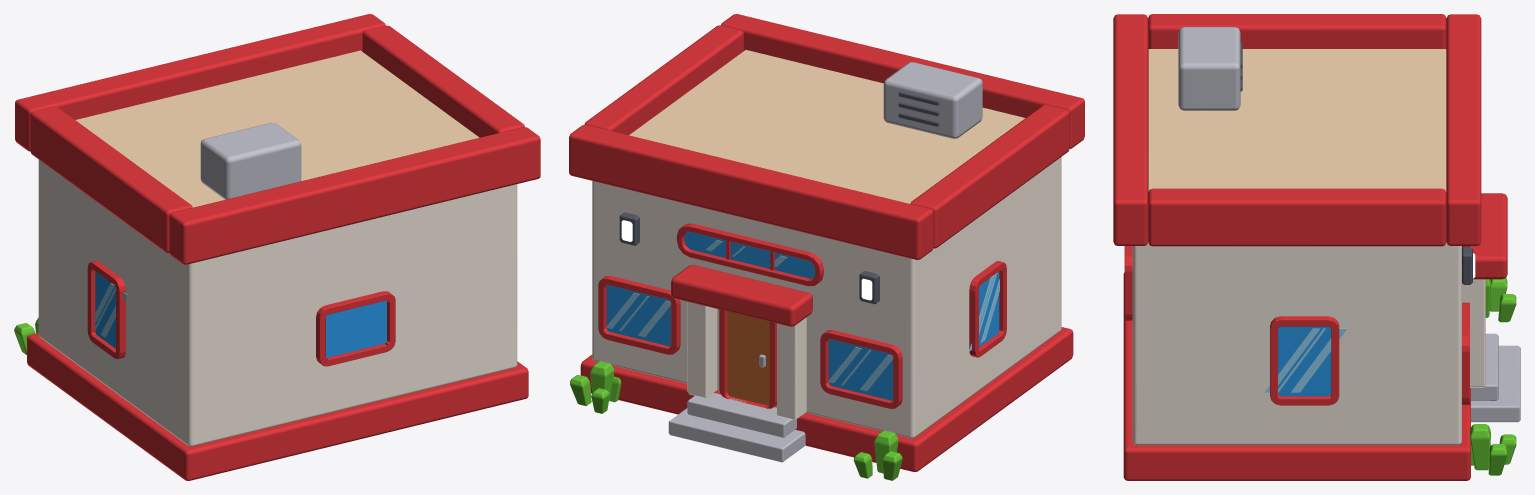
The model's file is CornerStore.glb.
3 renders of one model, left to right at view 1: azimuth 30°, elevation 25°; view 2: azimuth 150°, elevation 25°; view 3: azimuth 270°, elevation 25°, orthographic. The views are drawn at different scales.
Parts seen in each view (by area): view 1: M_CornerStore_HouseWall, M_CornerStore_ToyRed, M_CornerStore_HouseTrim, M_CornerStore_PlaneFlap, M_CornerStore_TruckCab, M_CornerStore_Glass; view 2: M_CornerStore_ToyRed, M_CornerStore_HouseWall, M_CornerStore_HouseTrim, M_CornerStore_PlaneFlap, M_CornerStore_TruckCab, M_CornerStore_ToyLeg, M_CornerStore_Leaves, M_CornerStore_Glass, M_CornerStore_ToyDark; view 3: M_CornerStore_ToyRed, M_CornerStore_HouseWall, M_CornerStore_HouseTrim, M_CornerStore_PlaneFlap, M_CornerStore_TruckCab, M_CornerStore_Leaves, M_CornerStore_Glass, M_CornerStore_ToyDark.
Part boxes in pixels (x1,y1,x2,y2): M_CornerStore_HouseWall: [38, 160, 517, 446]; M_CornerStore_ToyRed: [15, 14, 540, 480]; M_CornerStore_HouseTrim: [75, 50, 479, 207]; M_CornerStore_PlaneFlap: [200, 122, 301, 199]; M_CornerStore_TruckCab: [95, 271, 386, 357]; M_CornerStore_Glass: [94, 283, 127, 337]; M_CornerStore_ToyRed: [569, 14, 1084, 471]; M_CornerStore_HouseWall: [592, 157, 1061, 438]; M_CornerStore_HouseTrim: [629, 50, 1025, 203]; M_CornerStore_PlaneFlap: [668, 62, 982, 462]; M_CornerStore_TruckCab: [606, 231, 999, 400]; M_CornerStore_ToyLeg: [727, 311, 769, 405]; M_CornerStore_Leaves: [570, 361, 902, 480]; M_CornerStore_Glass: [606, 240, 1006, 391]; M_CornerStore_ToyDark: [619, 91, 939, 304]; M_CornerStore_ToyRed: [1113, 14, 1507, 480]; M_CornerStore_HouseWall: [1132, 242, 1485, 445]; M_CornerStore_HouseTrim: [1148, 49, 1446, 191]; M_CornerStore_PlaneFlap: [1178, 27, 1520, 422]; M_CornerStore_TruckCab: [1278, 326, 1331, 396]; M_CornerStore_Leaves: [1470, 278, 1516, 475]; M_CornerStore_Glass: [1265, 328, 1346, 392]; M_CornerStore_ToyDark: [1240, 42, 1472, 284].
Size of the model in its own units: 12.25 by 9.4 by 11.13.
